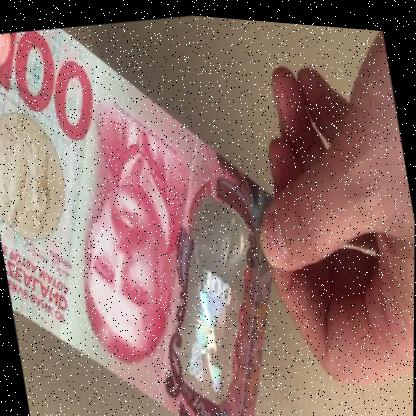100F: (161, 205, 263, 396)
